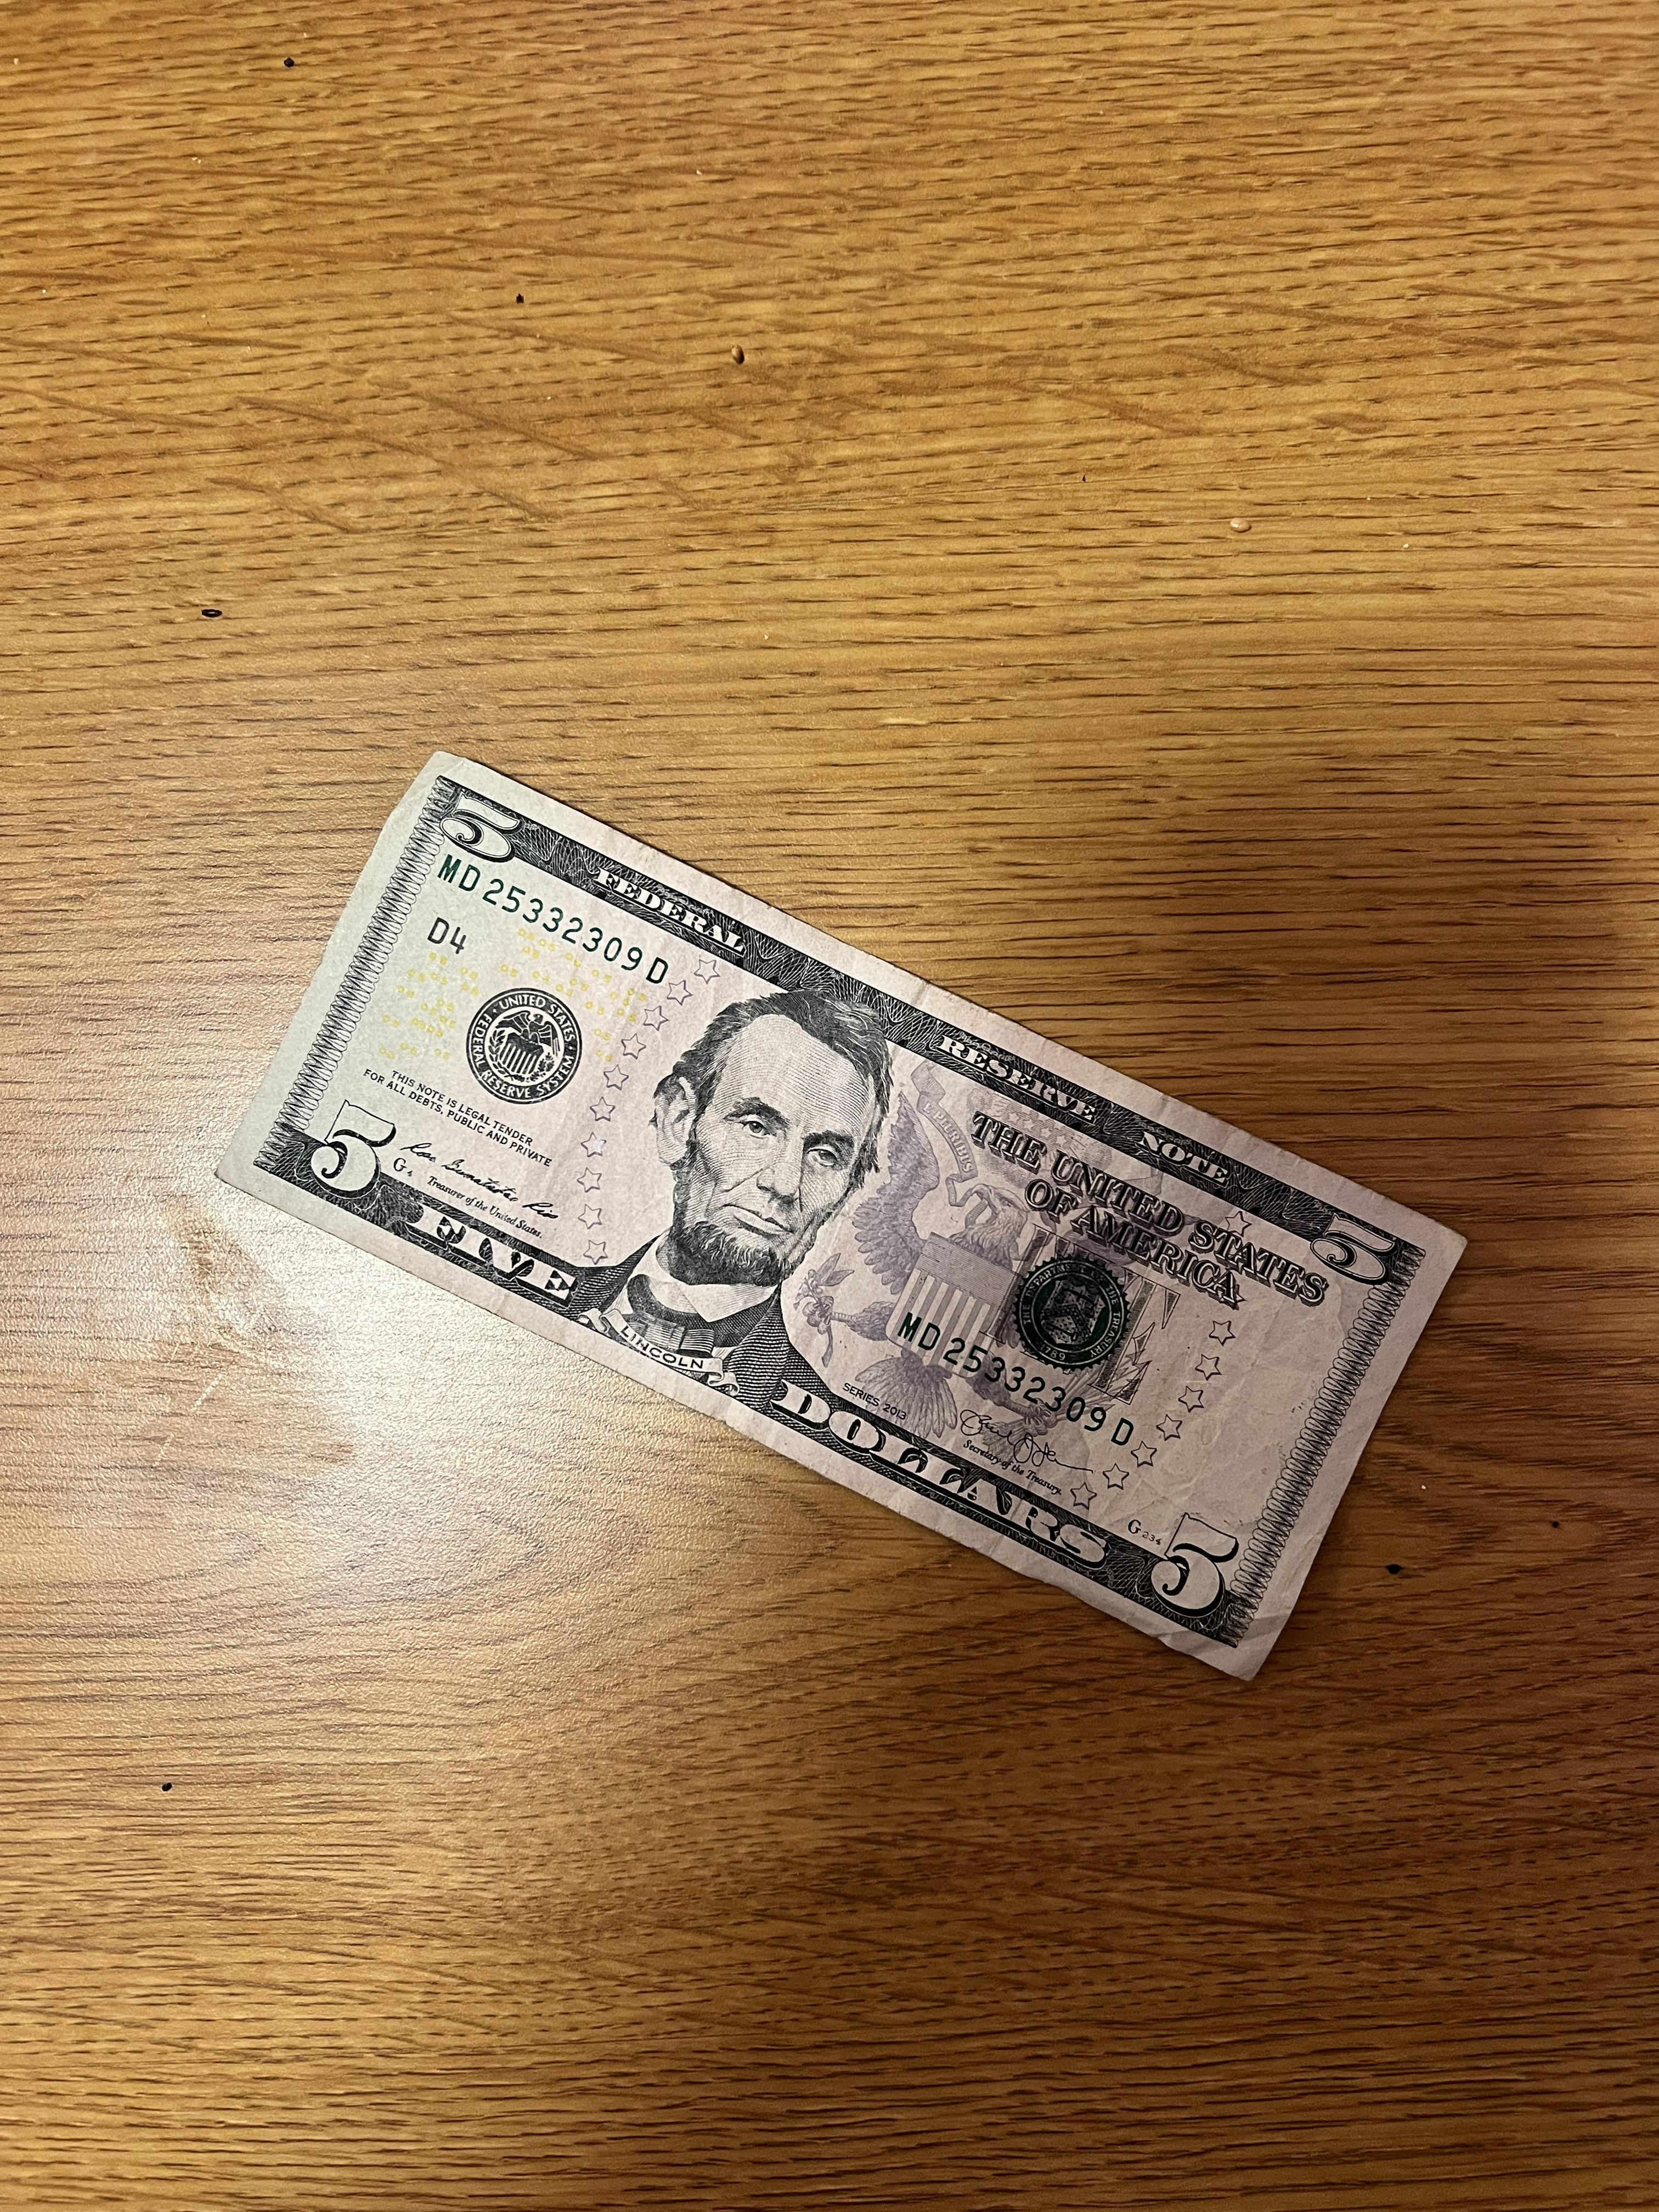FiveBill: (213, 718, 1483, 1723)
